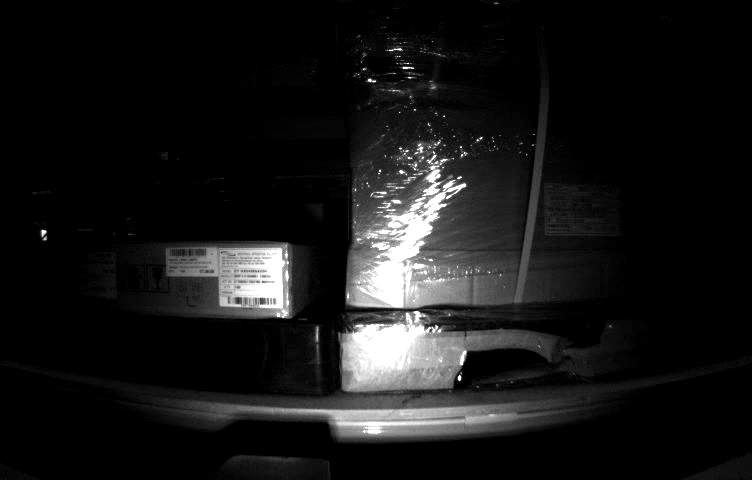True Barcode: (76, 247, 116, 297)
